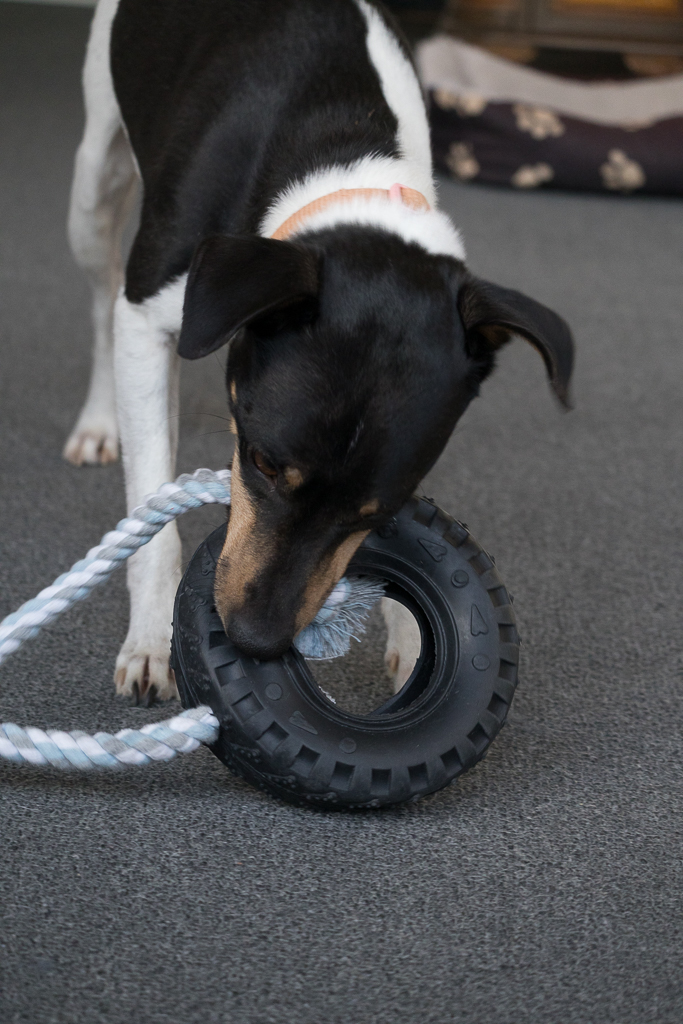Dog: (47, 0, 590, 721)
